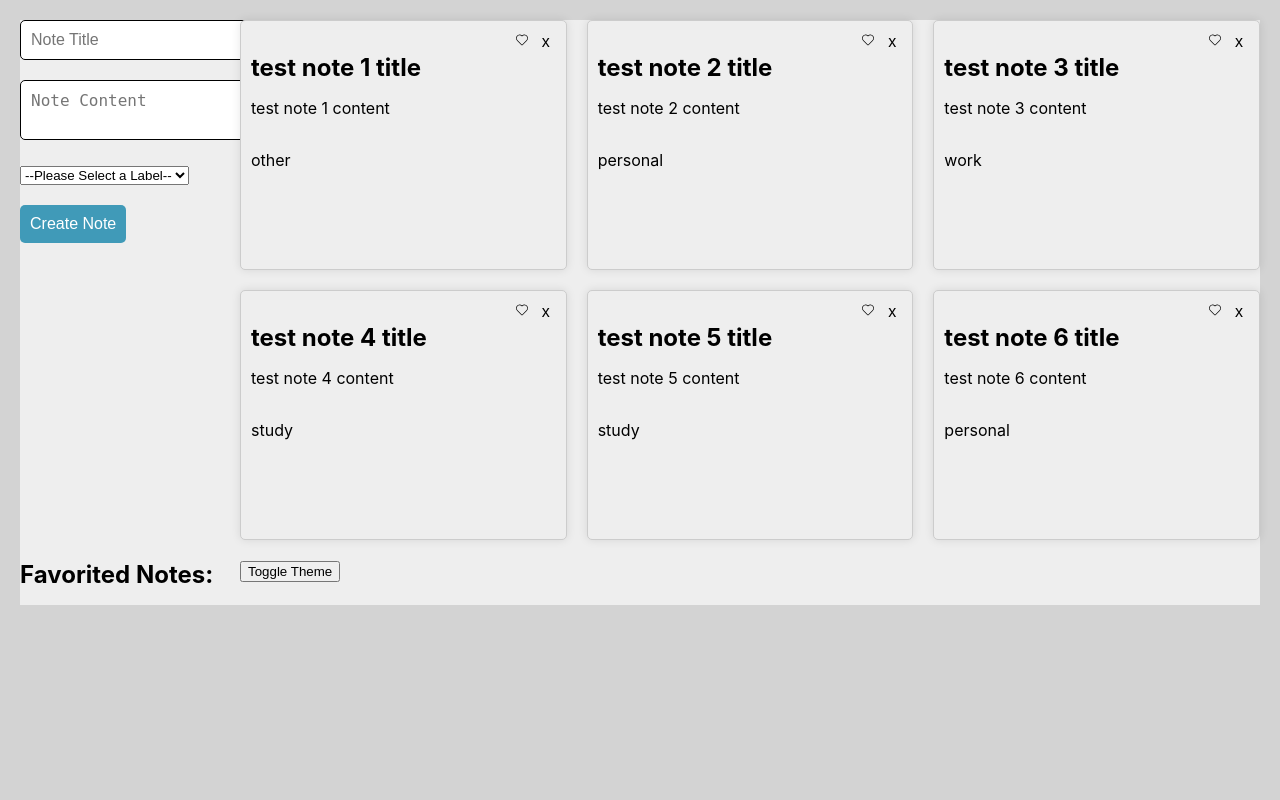
Test case: Delete all notes › delete all notes
Expected: the number of elements with test id "note-grid" is 6, top-left (240, 20), bottom-right (567, 270); top-left (587, 20), bottom-right (913, 270); top-left (933, 20), bottom-right (1260, 270); top-left (240, 290), bottom-right (567, 540); top-left (587, 290), bottom-right (913, 540); top-left (933, 290), bottom-right (1260, 540)
Click the 1st button "x": (546, 42) top-left (536, 31), bottom-right (556, 53)
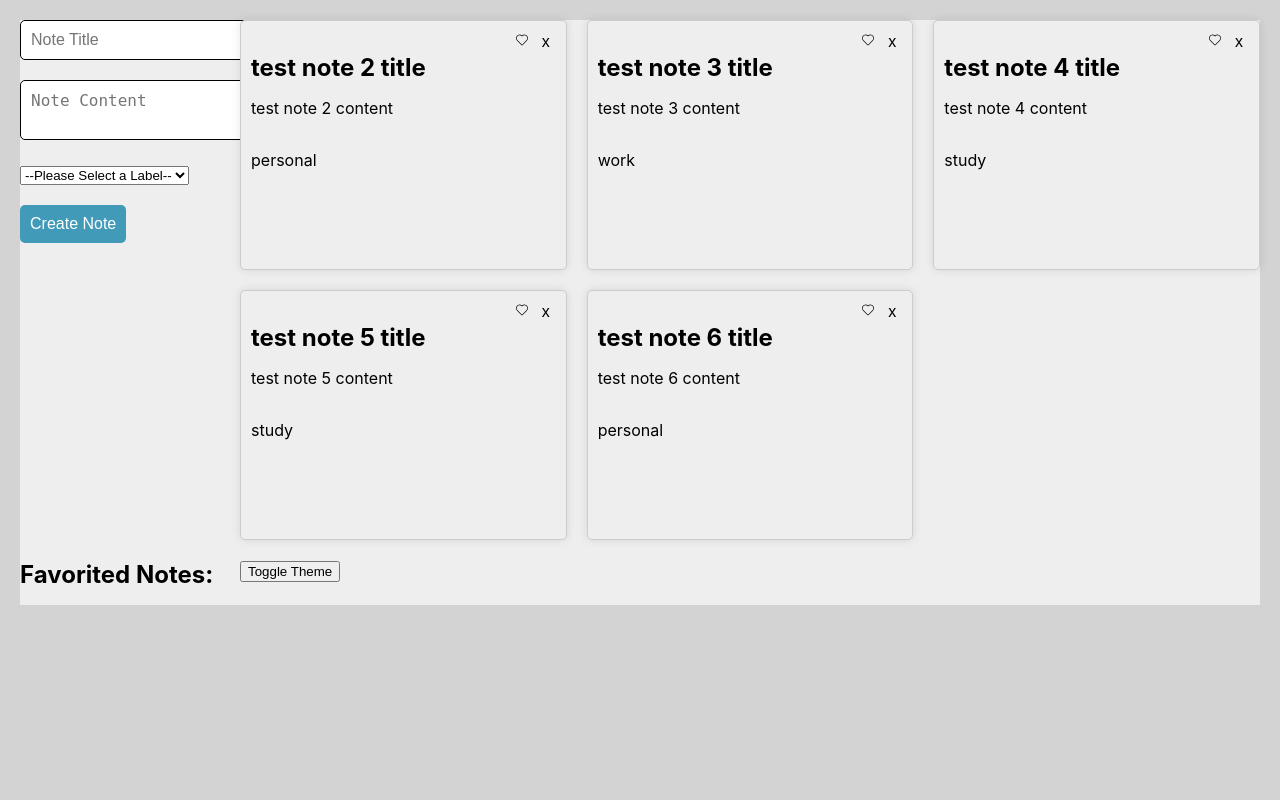
Expected: the heading "test note 1 title" is gone
Expected: the number of elements with test id "note-grid" is 5, top-left (240, 20), bottom-right (567, 270); top-left (587, 20), bottom-right (913, 270); top-left (933, 20), bottom-right (1260, 270); top-left (240, 290), bottom-right (567, 540); top-left (587, 290), bottom-right (913, 540)
Click the 1st button "x": (546, 42) top-left (536, 31), bottom-right (556, 53)
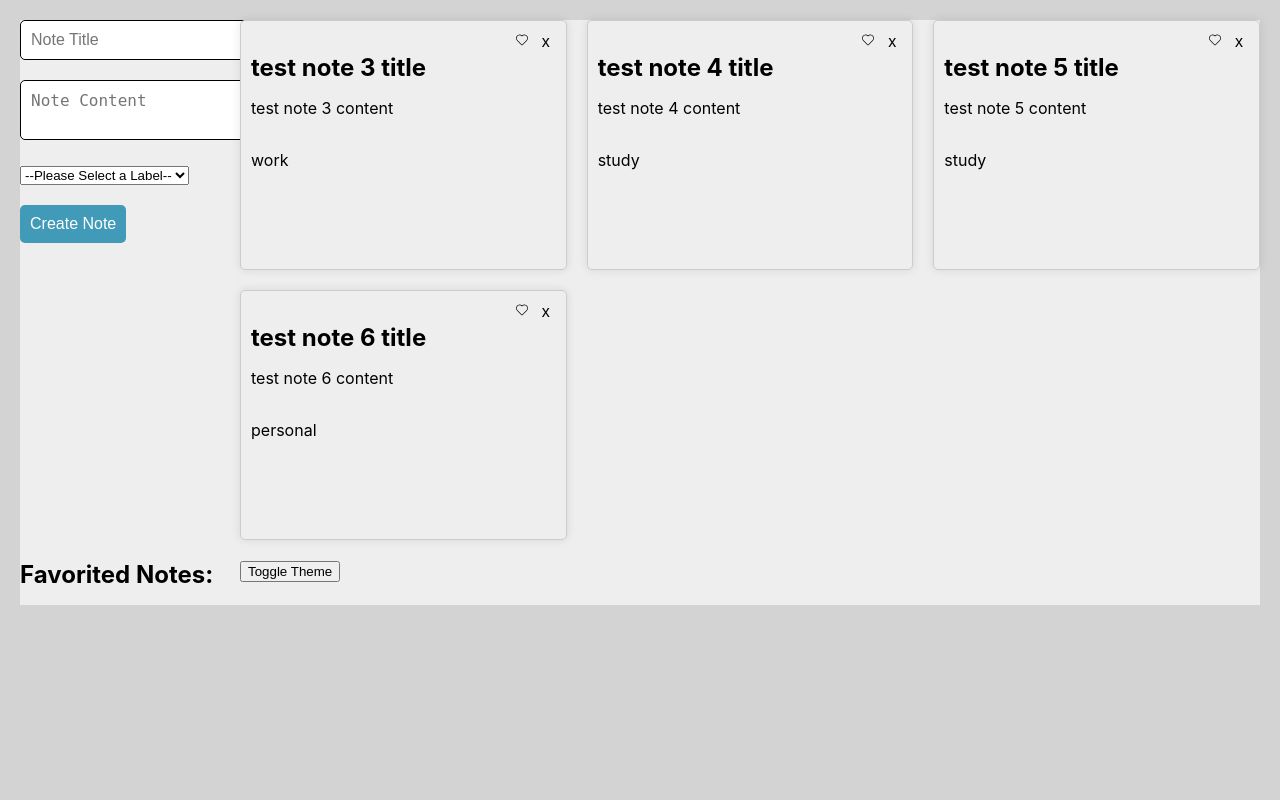
Click the 1st button "x": (546, 42) top-left (536, 31), bottom-right (556, 53)
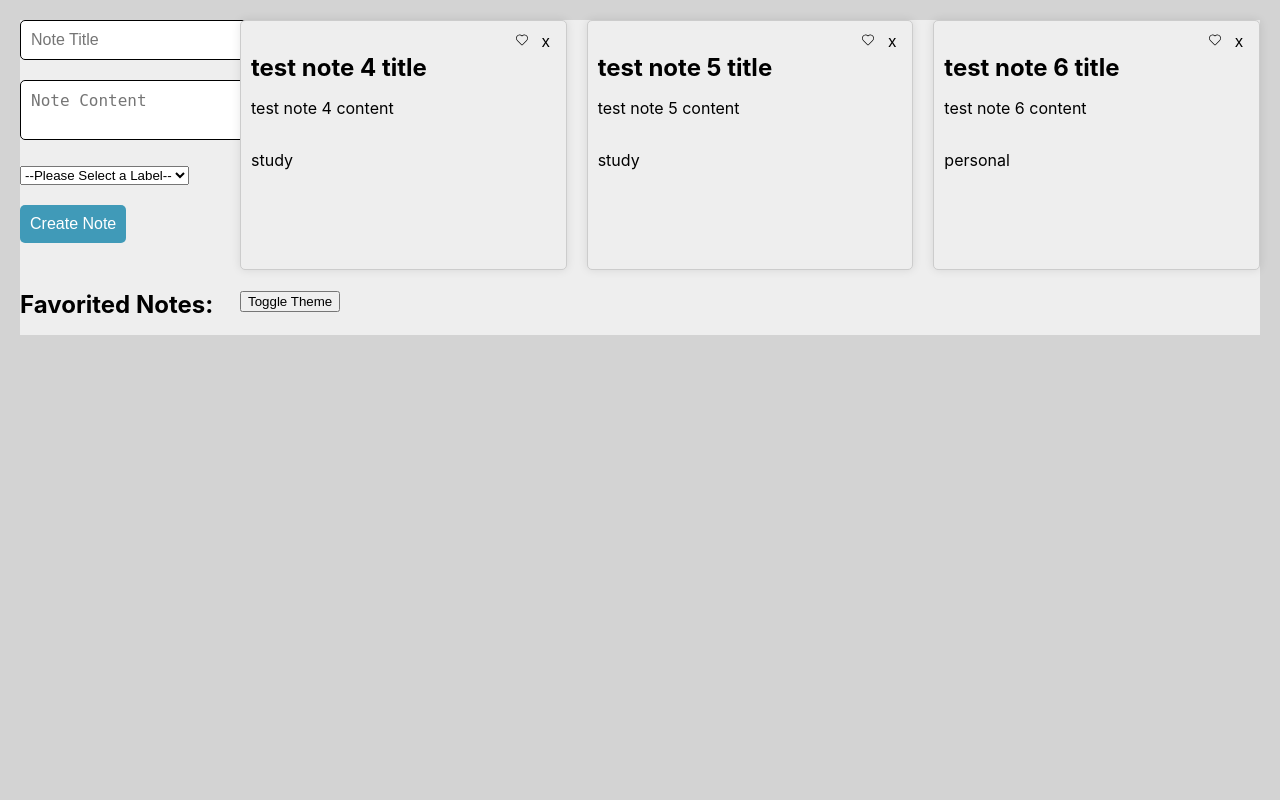
Click the 1st button "x": (546, 42) top-left (536, 31), bottom-right (556, 53)
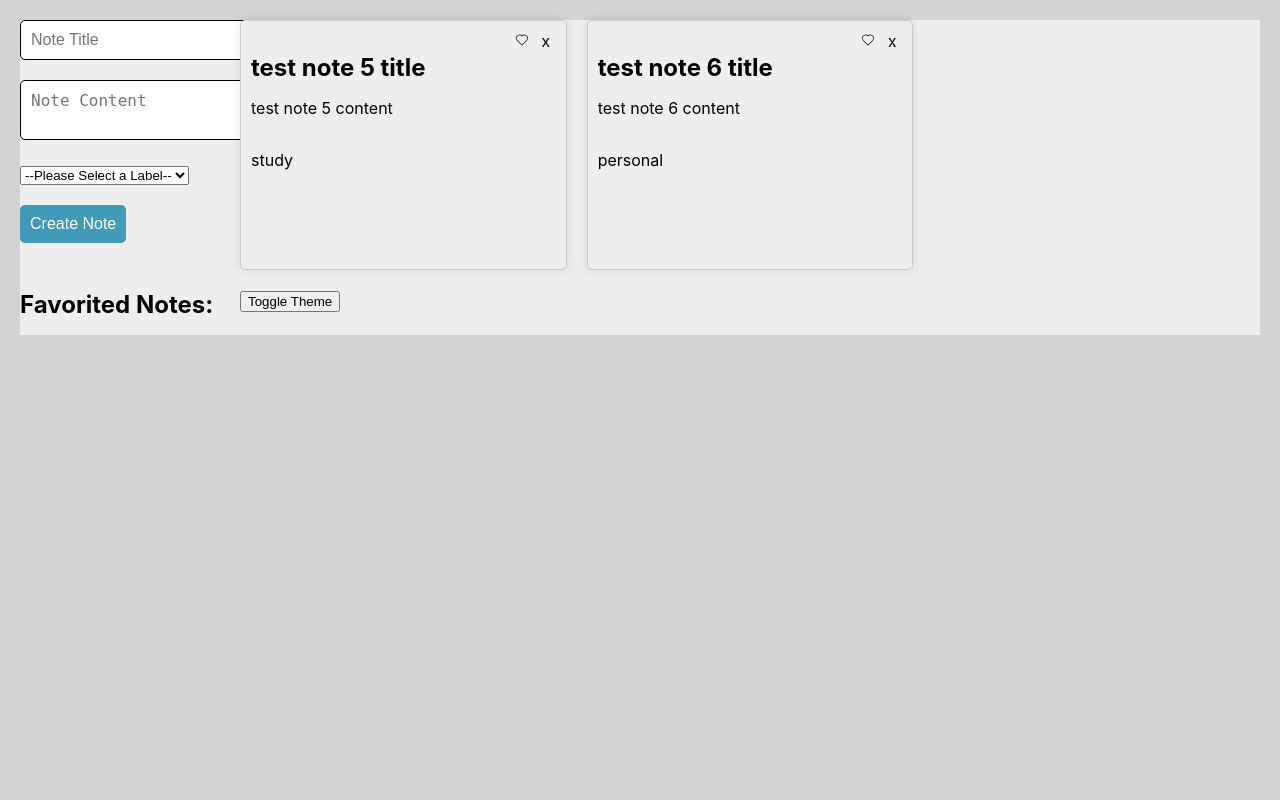
Click the 1st button "x": (546, 42) top-left (536, 31), bottom-right (556, 53)
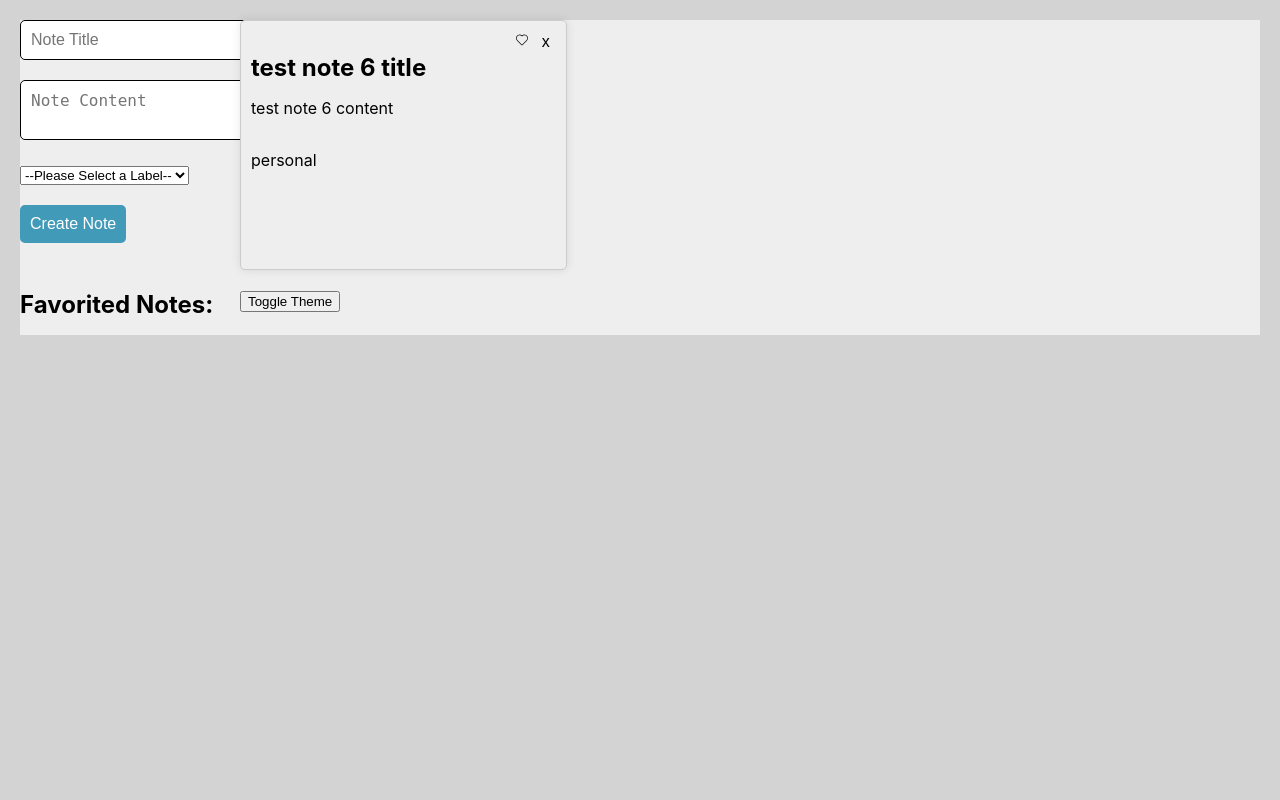
Click the button "x": (546, 42) top-left (536, 31), bottom-right (556, 53)
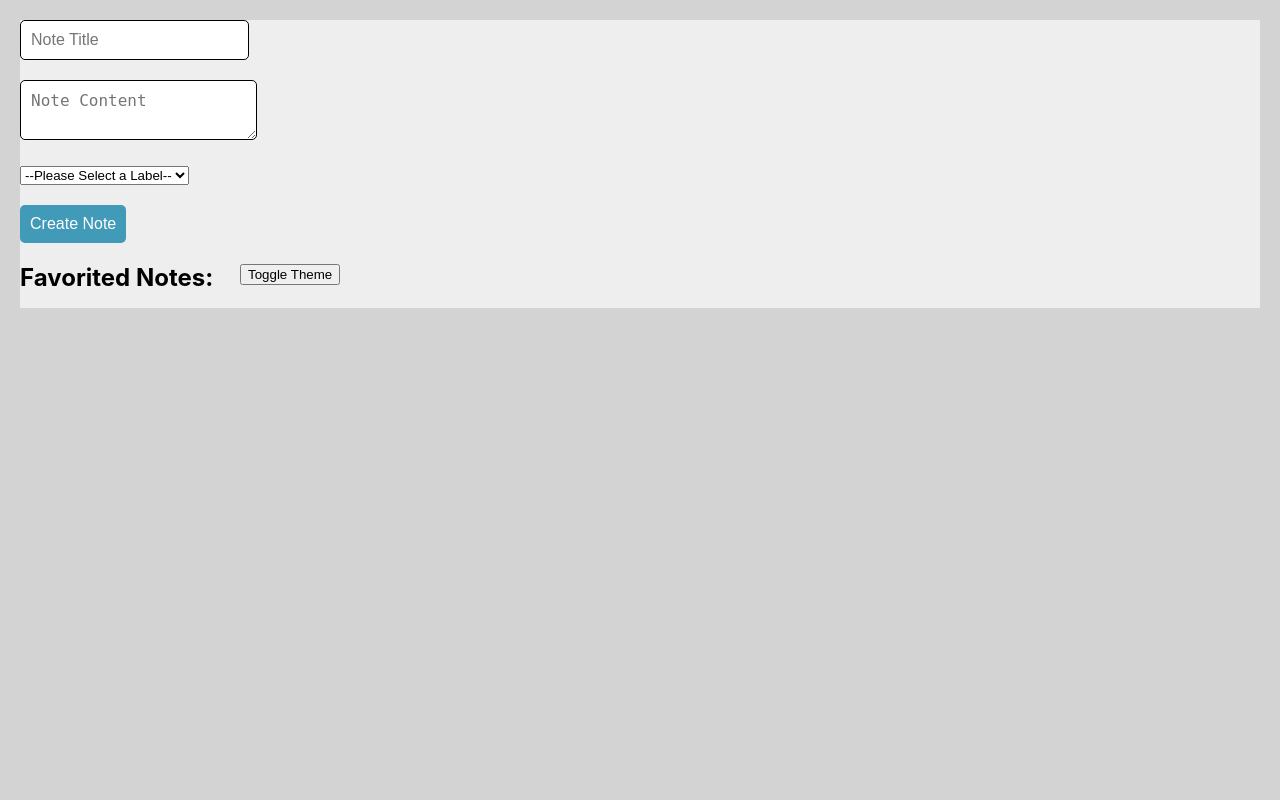
Expected: the heading "test note" is gone
Expected: the button "x" is gone
